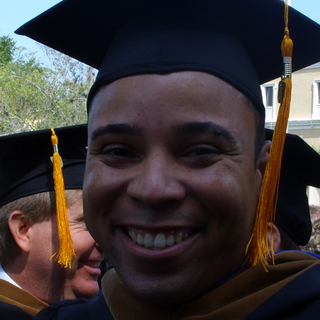eye: (172, 138, 229, 169), (93, 138, 145, 167)
